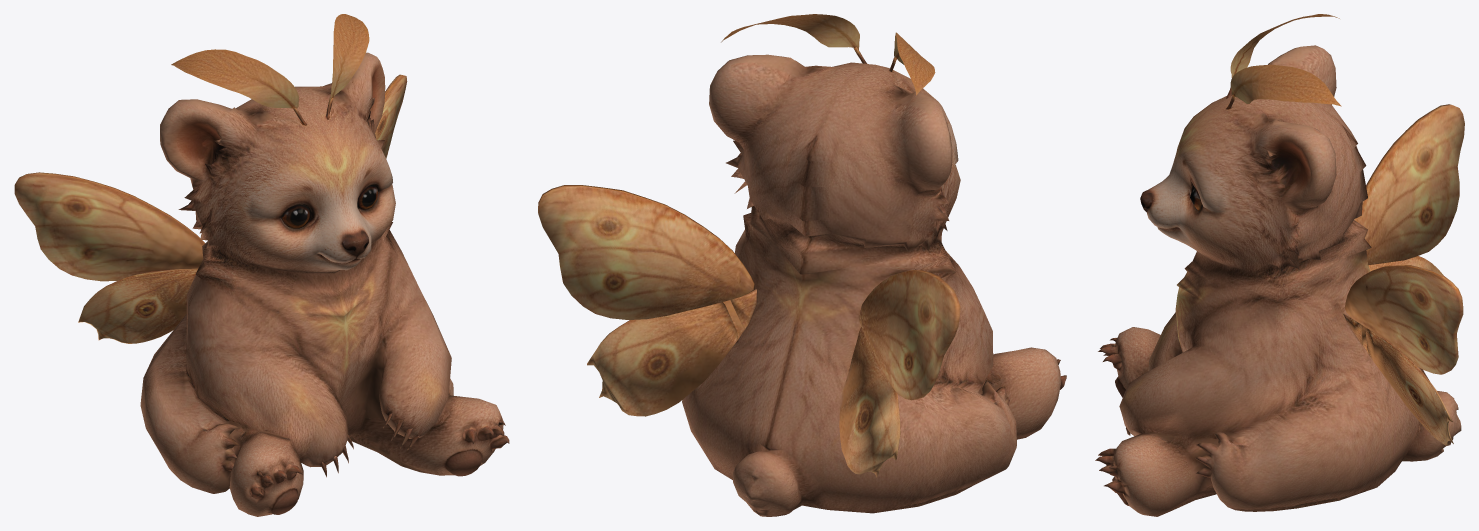
File: momo.glb
3 views of the same model, side by side, from view 1: azimuth 30°, elevation 25°; view 2: azimuth 150°, elevation 25°; view 3: azimuth 270°, elevation 25° (orthographic). The views are drawn at different scales.
Parts seen in each view (by area): view 1: tripo_node_db0ca397-fa41-4b89-a864-135f995a4a6a; view 2: tripo_node_db0ca397-fa41-4b89-a864-135f995a4a6a; view 3: tripo_node_db0ca397-fa41-4b89-a864-135f995a4a6a.
Boxes of the visible parts, x1,y1,x2,y2 form: tripo_node_db0ca397-fa41-4b89-a864-135f995a4a6a: (14,14,509,516); tripo_node_db0ca397-fa41-4b89-a864-135f995a4a6a: (538,14,1066,516); tripo_node_db0ca397-fa41-4b89-a864-135f995a4a6a: (1095,14,1464,516).
Size of the model in its own units: 0.998 by 0.9941 by 0.7988.
1 material, 1 textured.
